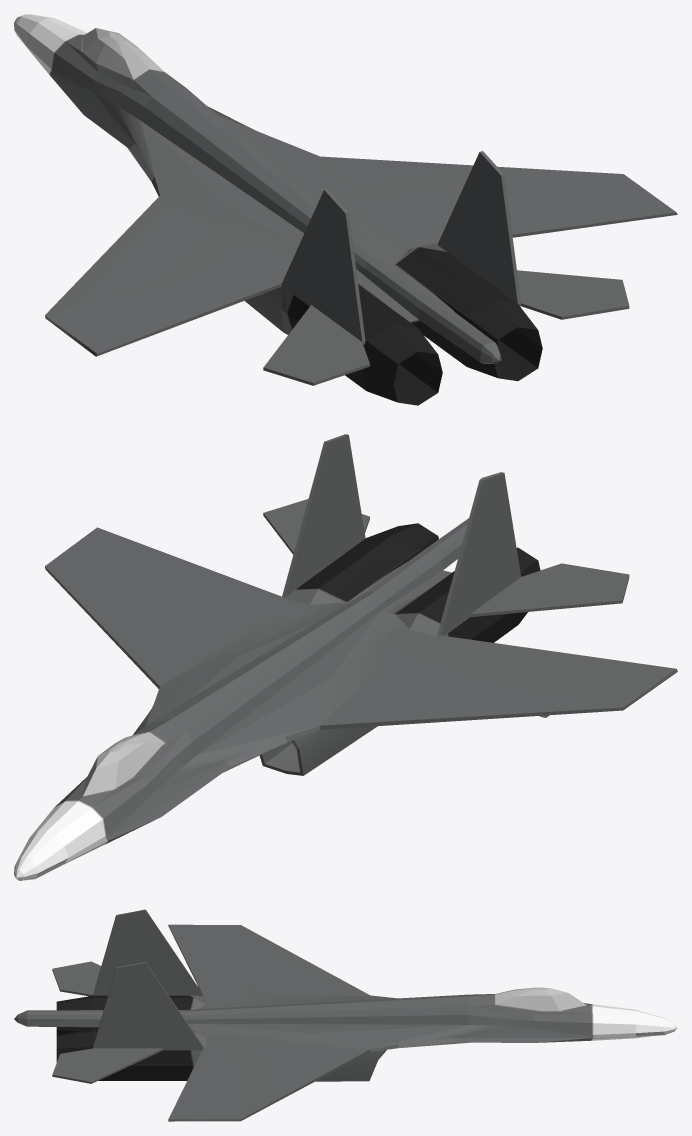
The picture shows the model from 3 angles, top to bottom: view 1: azimuth 30°, elevation 25°; view 2: azimuth 150°, elevation 25°; view 3: azimuth 270°, elevation 25°; orthographic projection. The views are drawn at different scales.
Parts seen in each view (by area): view 1: Jet_06_Body; view 2: Jet_06_Body; view 3: Jet_06_Body.
Boxes of the visible parts, left/top/right/bottom form: Jet_06_Body: left=14, top=14, right=677, bottom=405; Jet_06_Body: left=14, top=434, right=677, bottom=880; Jet_06_Body: left=14, top=909, right=677, bottom=1121.
Size of the model in its own units: 1.05 by 0.3164 by 1.51.
Materials: 1 (1 with a texture image).
